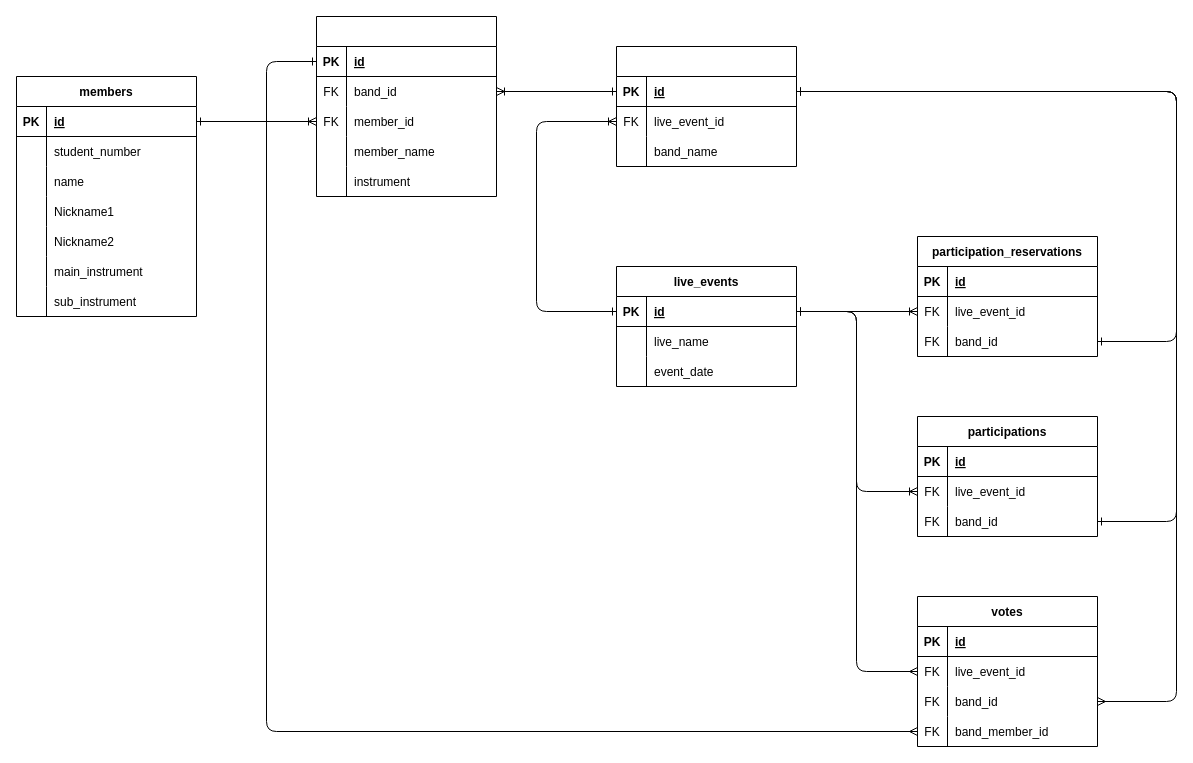
Some shapes in this 1193 by 763 pixel diagram are drawn without their labels. The shapes that lost their labels are listed below. From the top down, each one's box as (x1, y1, x2, y2) in pixels, then its label:
(316, 16, 496, 196): band_members
(616, 46, 796, 166): bands
